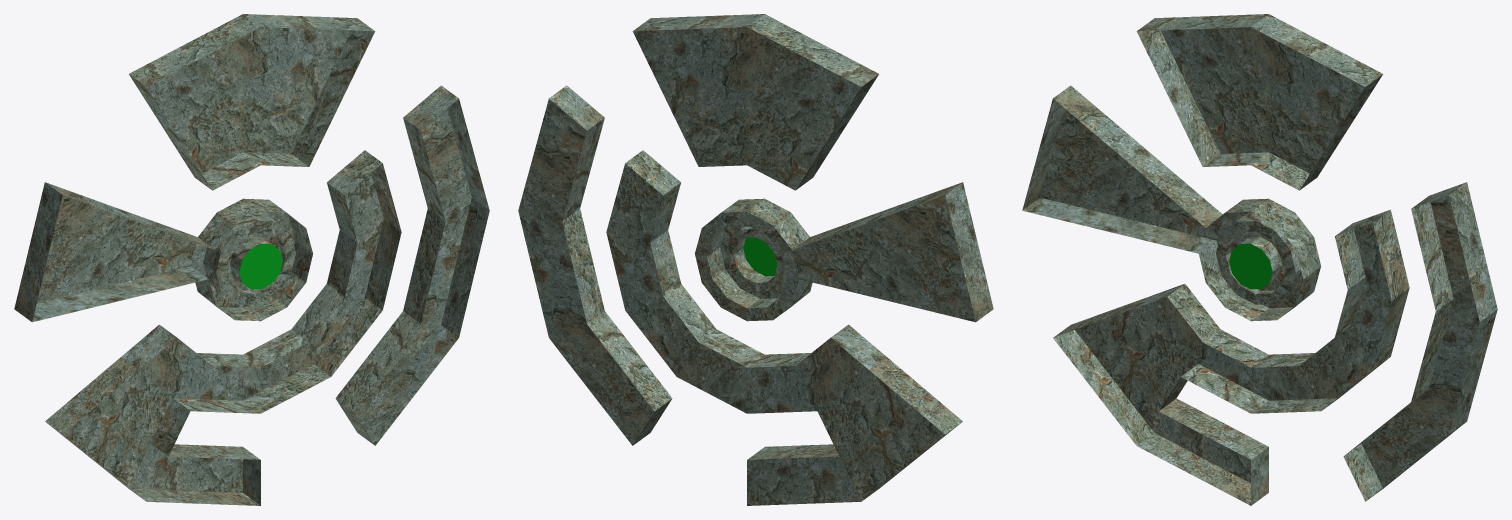
File: gate_lock.fbx
3 renders of one model, left to right at view 1: azimuth 30°, elevation 25°; view 2: azimuth 150°, elevation 25°; view 3: azimuth 330°, elevation 25°, orthographic.
Parts seen in each view (by area): view 1: gate_lock; view 2: gate_lock; view 3: gate_lock.
Part boxes in pixels (bbox=[...]): gate_lock: bbox=[14, 14, 489, 505]; gate_lock: bbox=[518, 14, 993, 505]; gate_lock: bbox=[1022, 14, 1497, 505].
Size of the model in its own units: 1.9 by 1.9 by 0.1296.
1 material, 1 textured.
